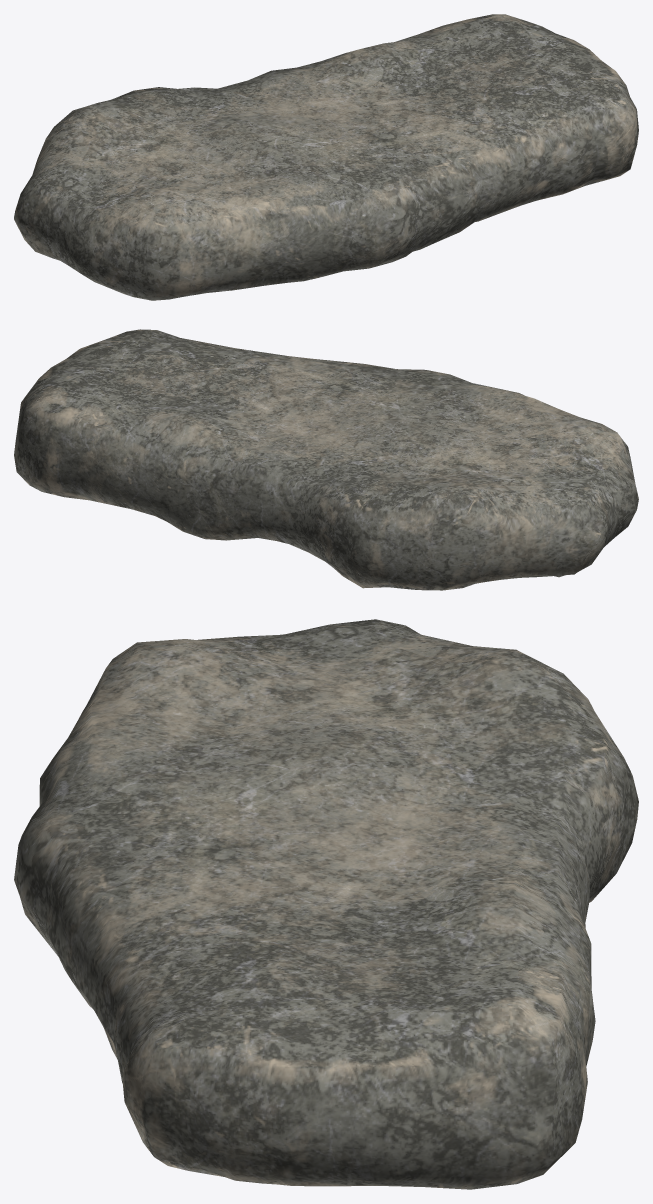
Rendered from Stone5.fbx.
The picture shows the model from 3 angles, top to bottom: view 1: azimuth 30°, elevation 25°; view 2: azimuth 150°, elevation 25°; view 3: azimuth 270°, elevation 25°; orthographic projection. The views are drawn at different scales.
Visible parts, largest first — view 1: Stone5; view 2: Stone5; view 3: Stone5.
Boxes of the visible parts, x1,y1,x2,y2 form: Stone5: (14, 14, 638, 300); Stone5: (14, 329, 638, 590); Stone5: (14, 619, 638, 1189).
Bounding box in the file's own units: 3.55 × 0.6198 × 1.96.
